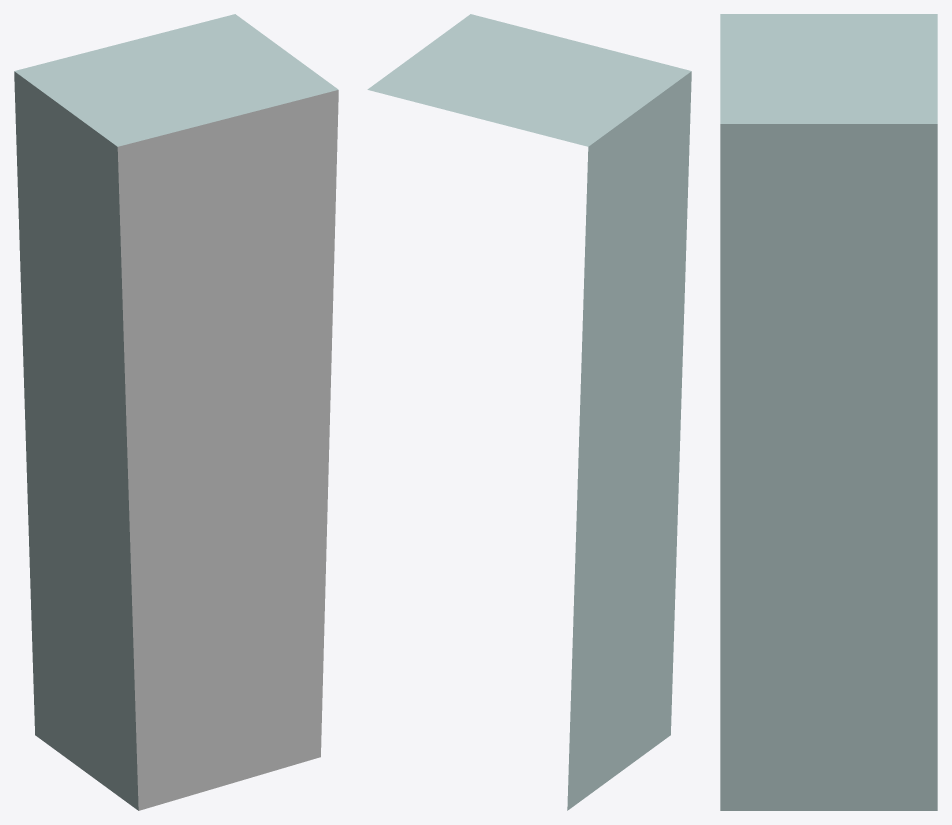
3 views of the same model, side by side, from view 1: azimuth 30°, elevation 25°; view 2: azimuth 150°, elevation 25°; view 3: azimuth 270°, elevation 25° (orthographic). The views are drawn at different scales.
Visible parts, largest first — view 1: 0_3_1_0_2_2_2_0_1; view 2: 0_3_1_0_2_2_2_0_1; view 3: 0_3_1_0_2_2_2_0_1.
Part boxes in pixels (bbox=[...]): 0_3_1_0_2_2_2_0_1: bbox=[14, 14, 338, 810]; 0_3_1_0_2_2_2_0_1: bbox=[367, 14, 691, 810]; 0_3_1_0_2_2_2_0_1: bbox=[720, 14, 937, 810].
Bounding box in the file's own units: 3.7 × 10.75 × 3.
